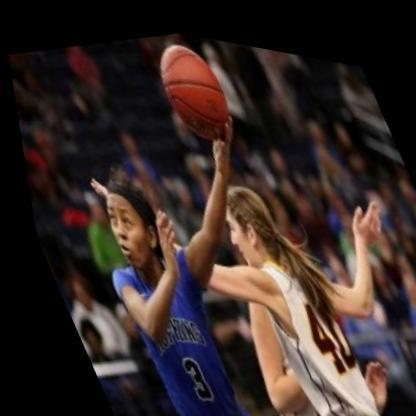basketball: (136, 20, 245, 148)
